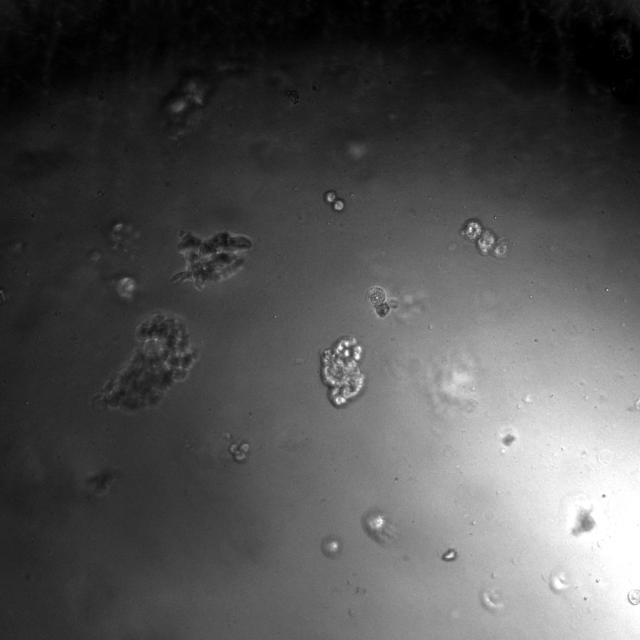organoid: (94, 312, 196, 411), (171, 231, 252, 289), (321, 336, 364, 407)
